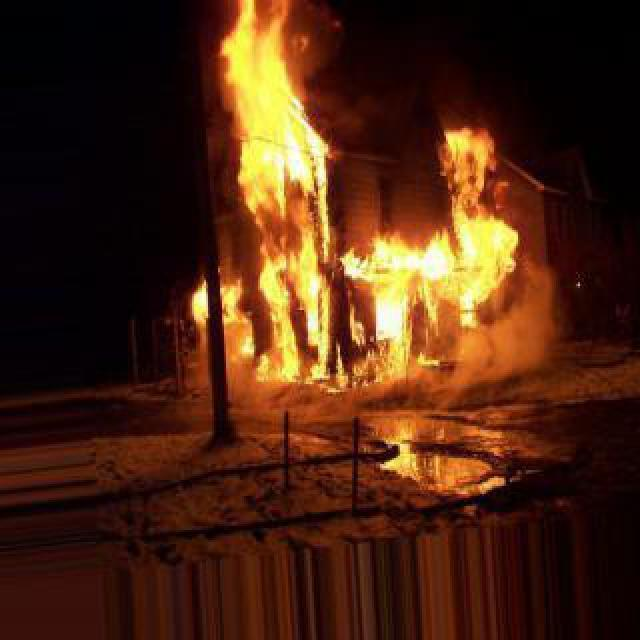Fire: (226, 0, 340, 386), (346, 120, 522, 292), (346, 292, 446, 390), (188, 272, 240, 324)
Smoke: (446, 292, 580, 406), (180, 328, 236, 422), (238, 380, 332, 436)
